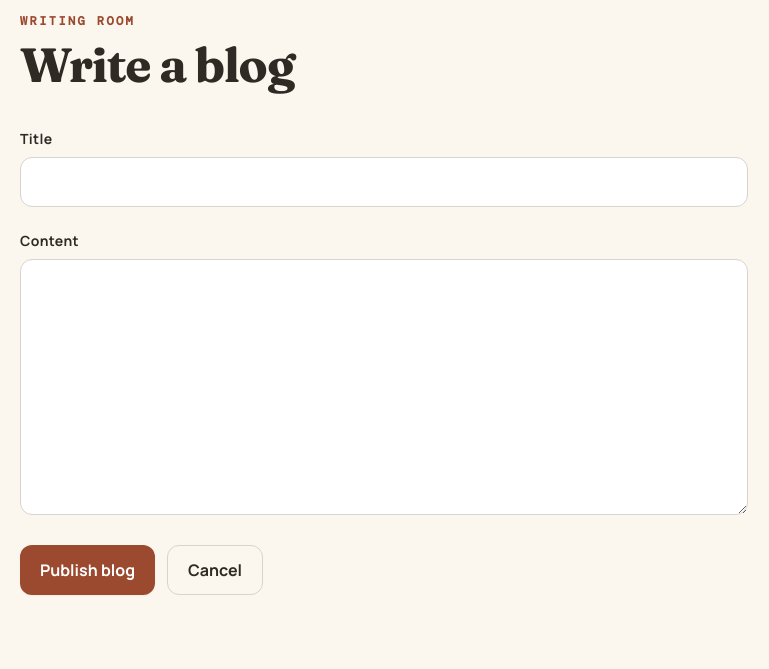
writing and editing › shows an inline save error and preserves posts when creating cannot write storage
Step 1. Type "Cannot save" into the field labelled "Title" → (384,182), box [20,157,748,207]
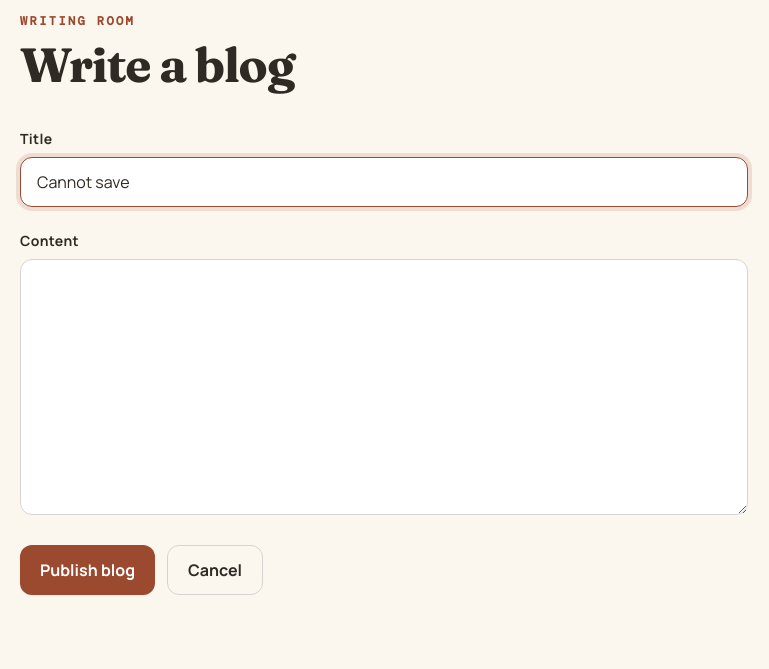
Step 2. Type "The persisted collection must remain unchanged." into the text box labelled "Content" → (384,387), box [20,259,748,515]
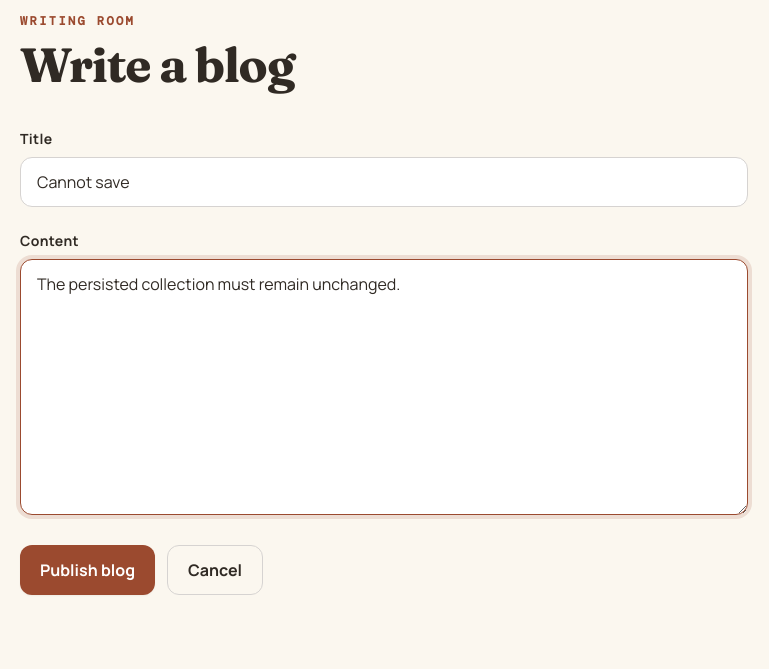
Step 3. Click the button "Publish blog" → (88,570), box [20,545,155,595]
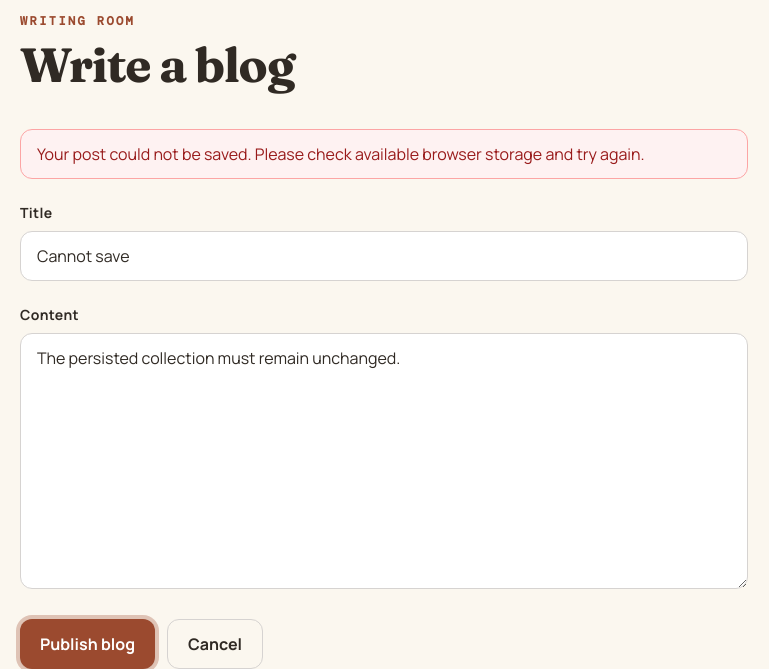
Check: the heading "Write a blog" is shown, box [20,35,294,94]
Check: the message shows "Your post could not be saved. Please check available browser storage and try again.", box [37,143,645,165]
